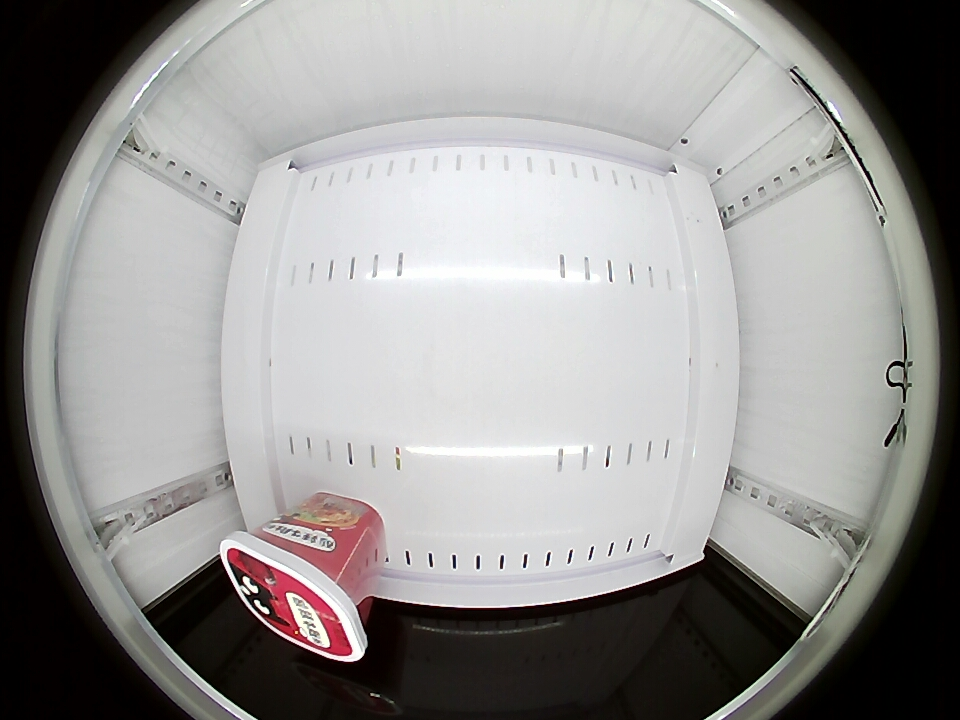niudufen: (221, 521, 369, 661)
